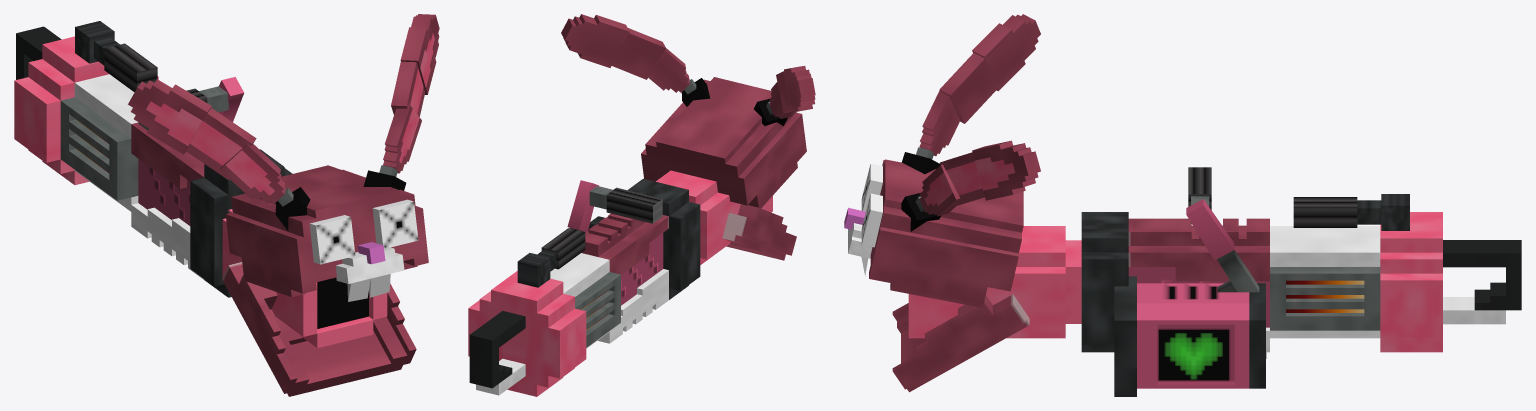
Rendered from bazooka.fbx.
3 views of the same model, side by side, from view 1: azimuth 30°, elevation 25°; view 2: azimuth 150°, elevation 25°; view 3: azimuth 270°, elevation 25° (orthographic). The views are drawn at different scales.
Parts seen in each view (by area): view 1: bazooka_rabit_2-0, head_rabit.001, head_rabit.002, tai_tho, tai_tho.001, tai_tho.002, head_rabit.003, head_rabit, Cube.021, Cube.020, Cube.017, Cube.022 (+2 smaller); view 2: bazooka_rabit_2-0, head_rabit.001, tai_tho, head_rabit.002, tai_tho.002, tai_tho.001, Cube.023, Cube.021, Cube.020, Cube.017, Cube.022; view 3: bazooka_rabit_2-0, Cube.016, head_rabit.001, tai_tho, head_rabit.002, tai_tho.002, tai_tho.001, Cube.017, Cube.021, head_rabit.003, Cube.020, head_rabit (+2 smaller).
Part boxes in pixels (bbox=[...]): bazooka_rabit_2-0: bbox=[14, 26, 387, 348]; head_rabit.001: bbox=[225, 165, 428, 297]; head_rabit.002: bbox=[222, 262, 416, 396]; tai_tho: bbox=[128, 14, 439, 230]; tai_tho.001: bbox=[220, 105, 421, 203]; tai_tho.002: bbox=[186, 61, 425, 179]; head_rabit.003: bbox=[309, 199, 418, 264]; head_rabit: bbox=[335, 242, 404, 283]; Cube.021: bbox=[104, 43, 157, 91]; Cube.020: bbox=[75, 21, 114, 63]; Cube.017: bbox=[218, 77, 244, 121]; Cube.022: bbox=[199, 86, 228, 112]; bazooka_rabit_2-0: bbox=[468, 170, 772, 396]; head_rabit.001: bbox=[641, 77, 806, 208]; tai_tho: bbox=[561, 14, 815, 125]; head_rabit.002: bbox=[722, 204, 796, 260]; tai_tho.002: bbox=[610, 28, 791, 113]; tai_tho.001: bbox=[648, 48, 794, 118]; Cube.023: bbox=[606, 187, 662, 223]; Cube.021: bbox=[541, 228, 585, 269]; Cube.020: bbox=[517, 253, 550, 287]; Cube.017: bbox=[567, 180, 598, 232]; Cube.022: bbox=[589, 186, 612, 209]; bazooka_rabit_2-0: bbox=[908, 212, 1521, 352]; Cube.016: bbox=[1114, 276, 1266, 396]; head_rabit.001: bbox=[869, 159, 1023, 307]; tai_tho: bbox=[901, 14, 1040, 231]; head_rabit.002: bbox=[892, 294, 1029, 392]; tai_tho.002: bbox=[939, 53, 998, 206]; tai_tho.001: bbox=[919, 90, 960, 216]; Cube.017: bbox=[1186, 199, 1259, 292]; Cube.021: bbox=[1293, 197, 1357, 227]; head_rabit.003: bbox=[861, 163, 882, 247]; Cube.020: bbox=[1381, 194, 1409, 230]; head_rabit: bbox=[844, 207, 872, 258].
Size of the model in its own units: 445 by 400 by 862.
